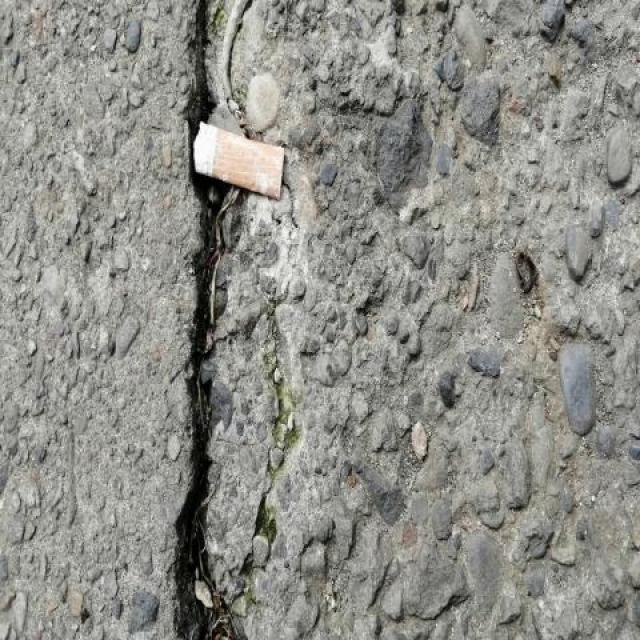non-organic waste: (188, 117, 289, 203)
